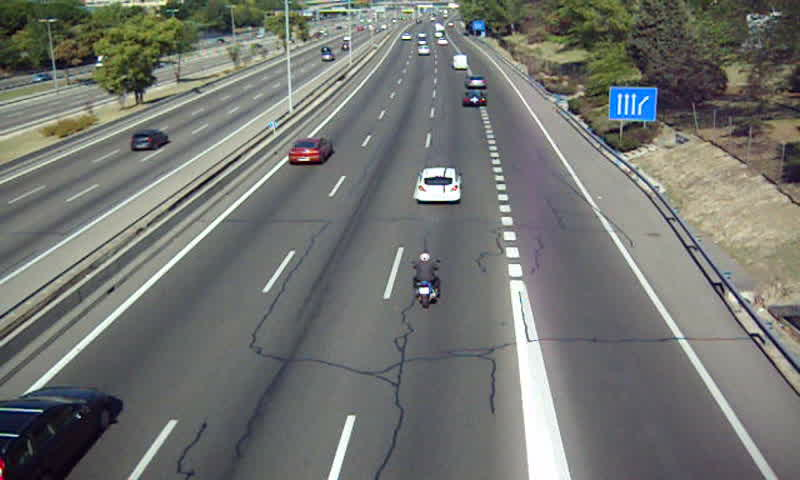car: (1, 387, 112, 480), (417, 167, 462, 203), (288, 139, 332, 166), (461, 91, 488, 107), (465, 74, 488, 90)
motorcycle: (409, 251, 442, 307)
van: (452, 53, 469, 70)
